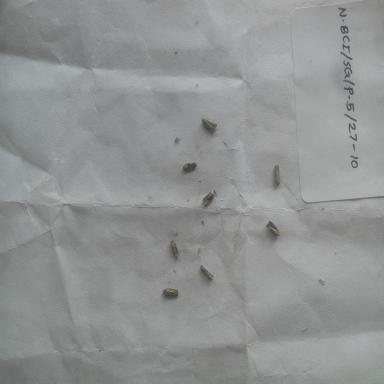pbw: (264, 217, 282, 238), (200, 188, 217, 207), (179, 156, 199, 172), (201, 116, 219, 133), (199, 263, 215, 282), (160, 286, 180, 300), (168, 237, 180, 260), (272, 162, 282, 186)
